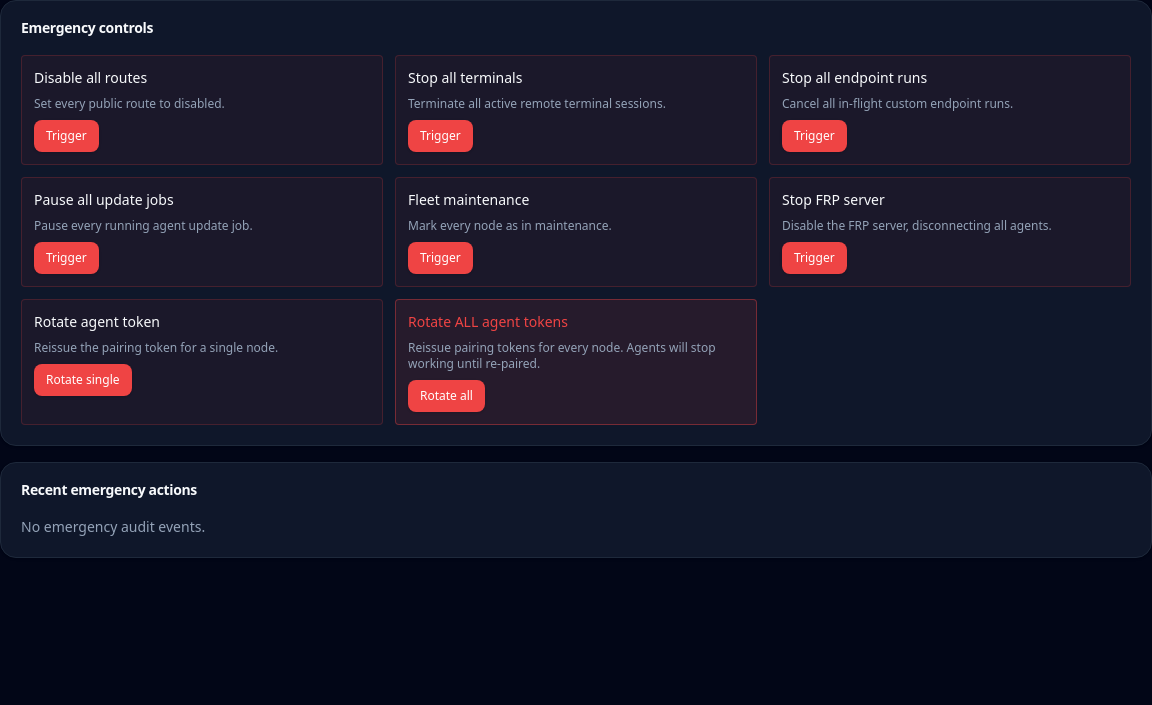
it: EmergencyControls › rotate single: opens modal, searches nodes, submits, shows token panel
The width and height of the screenshot is (1152, 705).
Click the button "Rotate single".
click(83, 380)  # box [34,364,132,396]
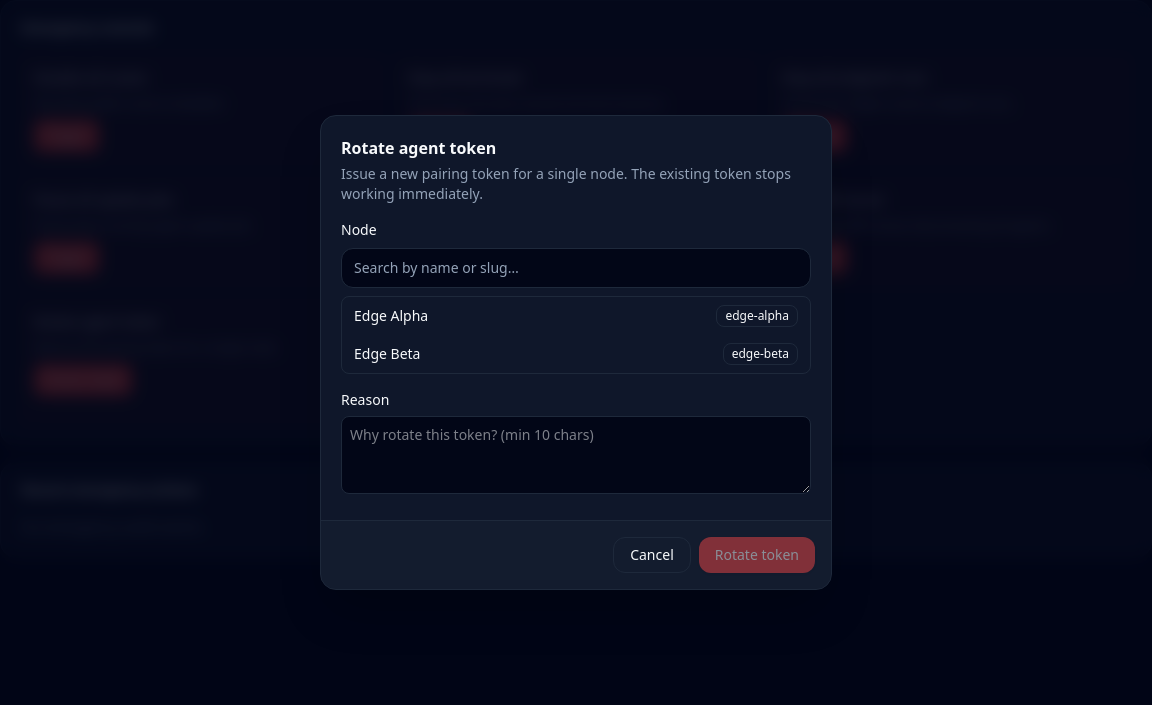
Result: the text "Edge Alpha" is shown at [354,306,428,326]
Result: the text "Edge Beta" is shown at [354,344,420,364]
# Search filters the list
Type "beta" into the field named "Search nodes".
click(576, 268); type("beta")  # box [341,248,811,288]
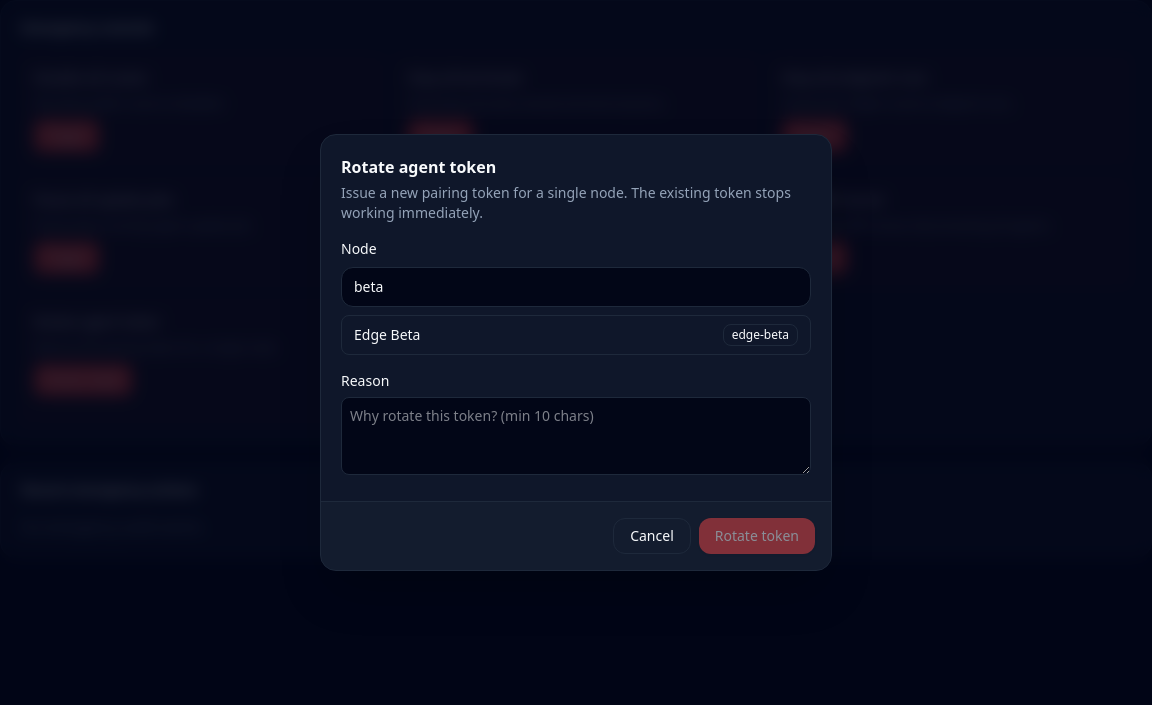
Result: the text "Edge Beta" is shown at [354,324,420,344]
Result: the button "Edge Alpha" is gone
# Clear search so we can pick Edge Alpha
Clear the field named "Search nodes" at (576, 286), box [341,266,811,306]
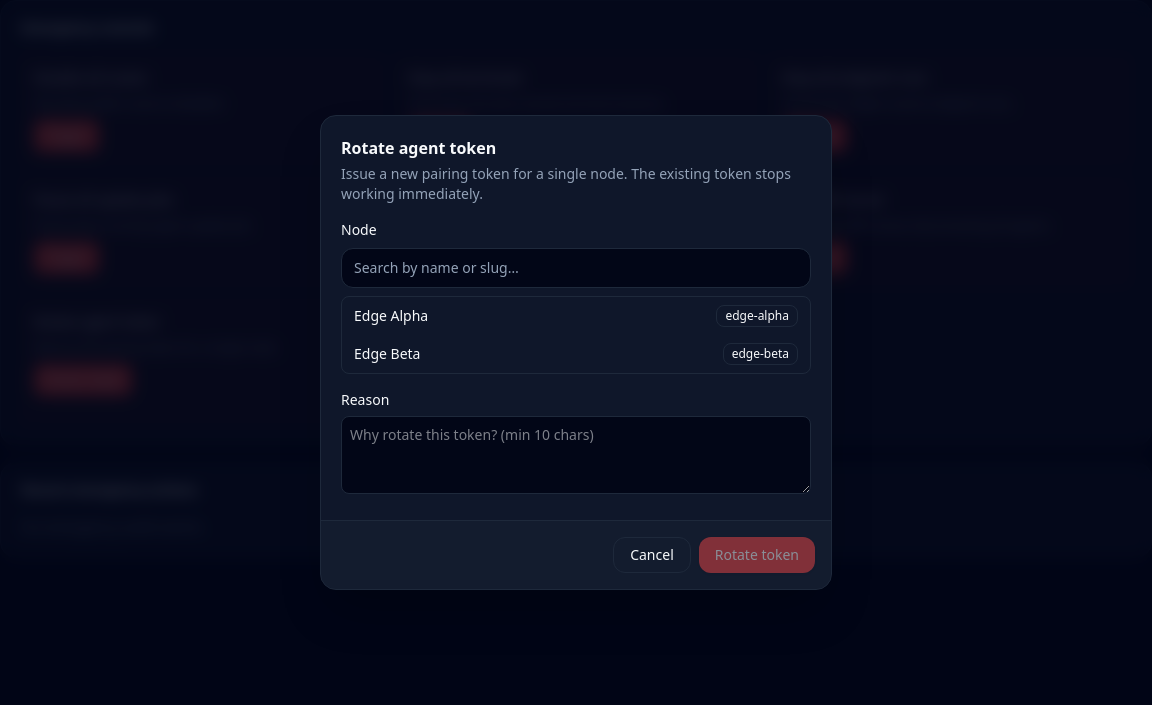
Result: the text "Edge Alpha" is shown
# Select Edge Alpha
Click the text "Edge Alpha".
click(391, 316)  # box [354,306,428,326]
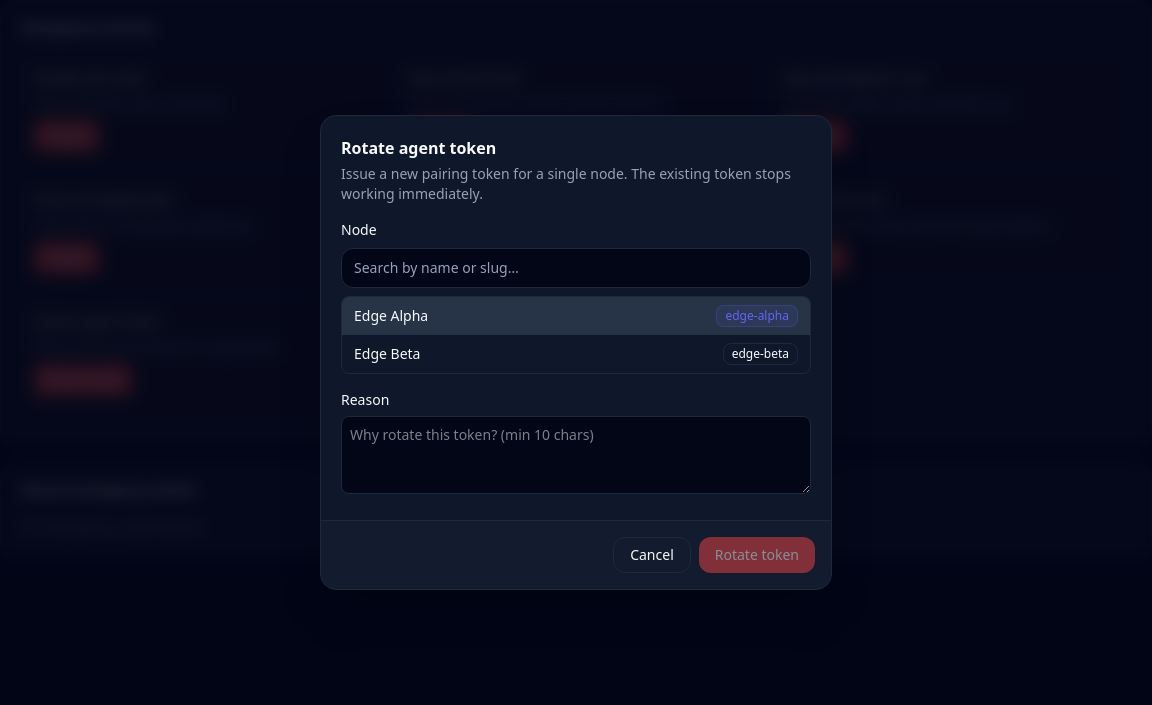
# Reason + submit
Type "Token compromised, rotate now" into the text box labelled "Reason".
click(576, 454); type("Token compromised, rotate now")  # box [341,416,811,494]
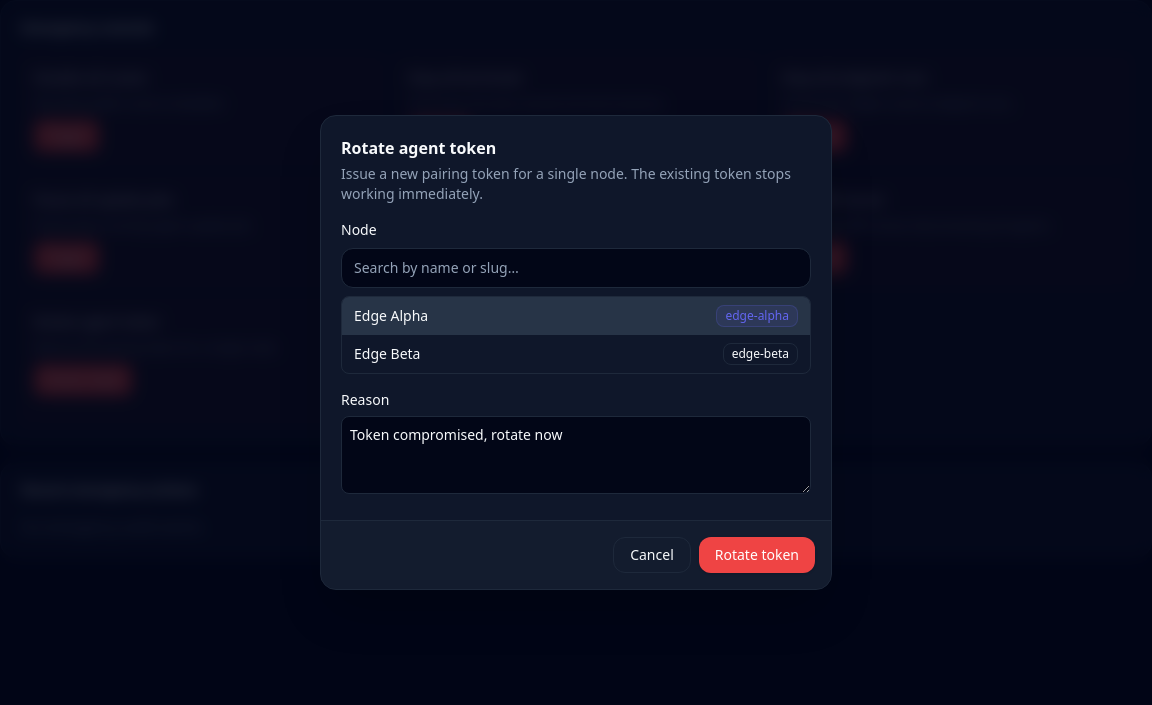
Result: the button "Rotate token" is enabled
Click the button "Rotate token".
click(757, 554)  # box [699,536,815,572]
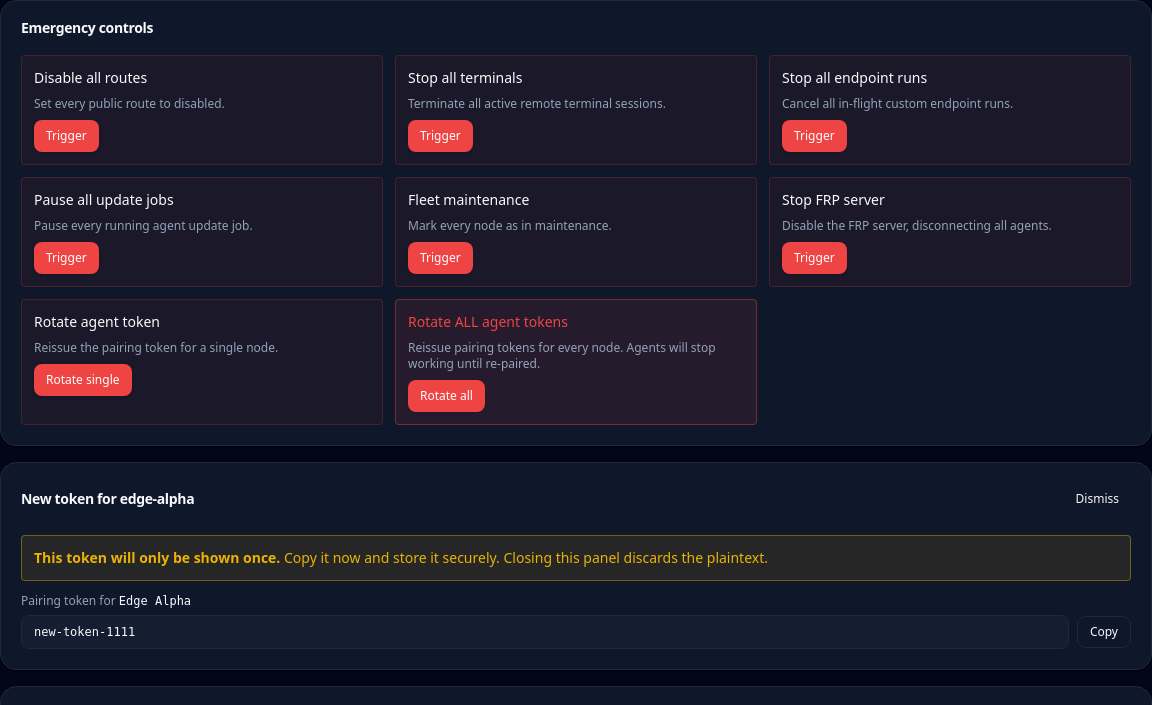
Result: the heading "New token for edge-alpha" is shown at [21,492,194,506]
Result: the text with test id "rotate-token-value" reads "new-token-1111" at [34,625,135,639]
Result: the text "This token will only be shown once." is shown at [34,548,280,567]
